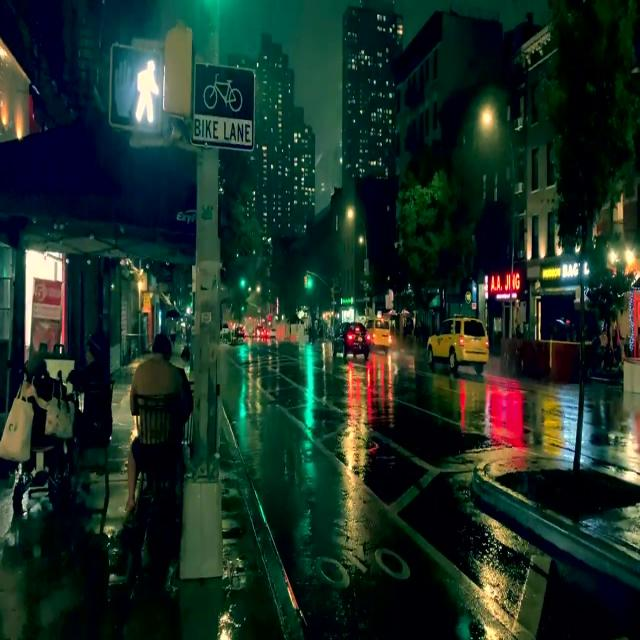Car: (425, 313, 486, 376), (330, 321, 370, 358)
